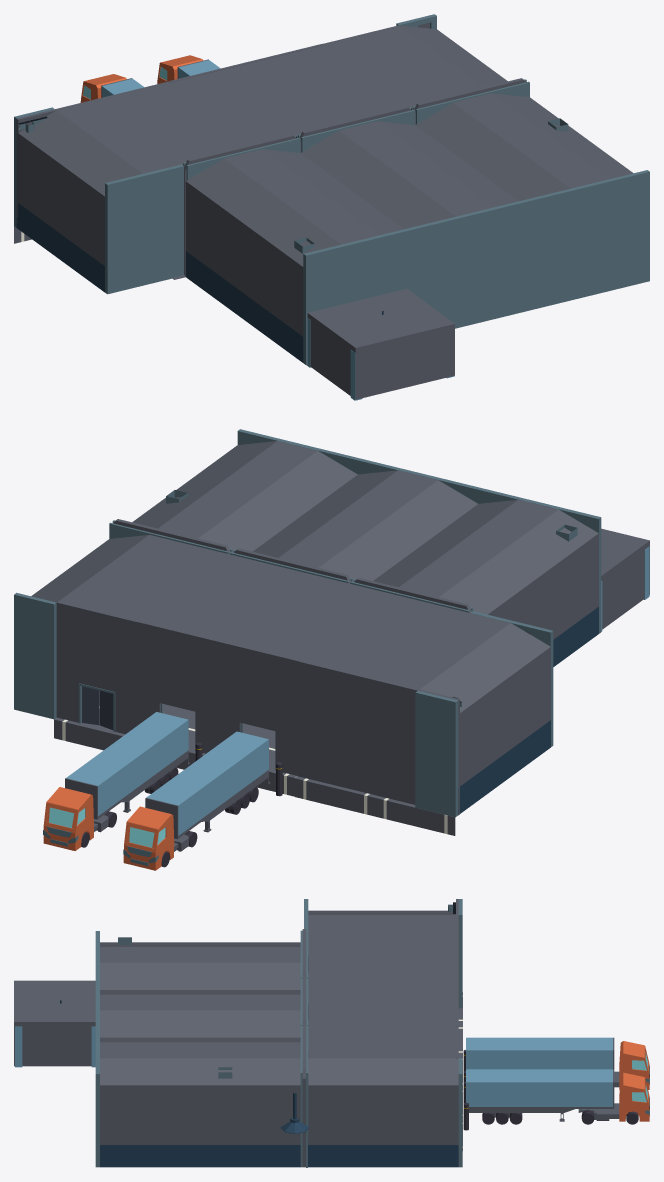
Rendered from Modelos_Bodega_03.fbx.
3 renders of one model, top to bottom at view 1: azimuth 30°, elevation 25°; view 2: azimuth 150°, elevation 25°; view 3: azimuth 270°, elevation 25°, orthographic. The views are drawn at different scales.
Visible parts, largest first — view 1: Techo_Tipo_01.012, Pared_Normal_01, Plane, Techo_Tipo_01_SinSuelo, Pared_Normal_03.002, Pared_Normal_03.016, Pared_Normal_03.013, Pared_Normal_01.005, Pared_Normal_03.012, Pared_Tipo_Extintores.001, Pared_Normal_01.004, Pared_Normal_01.006 (+47 smaller); view 2: Techo_Tipo_01.012, Pared_Muelle_03.001, Pared_Muelle_03, Techo_Tipo_01_SinSuelo, Camion_.001, Camion_, Pared_Muelle_2.002, Pared_Normal_01, Pared_Muelle_2.001, Pared_Muelle_03.002, Pared_Normal_01.004, Pared_Normal_01.005 (+42 smaller); view 3: Pared_Normal_01.001, Techo_Tipo_01.012, Camion_, Techo_Tipo_01_SinSuelo, Plane, Camion_.001, Pared_Tipo_Extintores, Pared_Tipo_Rak_3, Pared_Tipo_Rak_4, Pared_Tipo_Rak_1, Pared_Tipo_Rak_1.001, Pared_Tipo_Rak_1.002 (+27 smaller).
Boxes of the visible parts, x1,y1,x2,y2 form: Techo_Tipo_01.012: (84,47,482,173); Pared_Normal_01: (185,159,311,341); Plane: (307,288,454,399); Techo_Tipo_01_SinSuelo: (56,26,427,130); Pared_Normal_03.002: (552,174,630,304); Pared_Normal_03.016: (437,202,516,328); Pared_Normal_03.013: (323,230,401,308); Pared_Normal_01.005: (46,131,113,270); Pared_Normal_03.012: (124,169,164,289); Pared_Tipo_Extintores.001: (274,223,340,362); Pared_Normal_01.004: (75,152,142,292); Pared_Normal_01.006: (16,110,83,248); Techo_Tipo_01.012: (88,535,509,740); Pared_Muelle_03.001: (295,660,378,816); Pared_Muelle_03: (54,601,137,750); Techo_Tipo_01_SinSuelo: (59,580,448,689); Camion_.001: (123,731,270,870); Camion_: (43,712,189,850); Pared_Muelle_2.002: (217,640,298,796); Pared_Normal_01: (439,532,567,666); Pared_Muelle_2.001: (137,621,218,769); Pared_Muelle_03.002: (375,679,461,835); Pared_Normal_01.004: (480,623,550,769); Pared_Normal_01.005: (449,646,519,792); Pared_Normal_01.001: (308,1058,458,1167); Techo_Tipo_01.012: (308,915,408,1058); Camion_: (466,1069,649,1124); Techo_Tipo_01_SinSuelo: (408,915,455,1058); Plane: (14,980,95,1066); Camion_.001: (466,1037,649,1089); Pared_Tipo_Extintores: (200,1058,250,1167); Pared_Tipo_Rak_3: (150,1058,200,1167); Pared_Tipo_Rak_4: (100,1058,150,1167); Pared_Tipo_Rak_1: (250,1058,300,1167); Pared_Tipo_Rak_1.001: (250,1010,300,1037); Pared_Tipo_Rak_1.002: (250,962,300,989).
Bounding box in the file's own units: 3418 × 988 × 5072.
